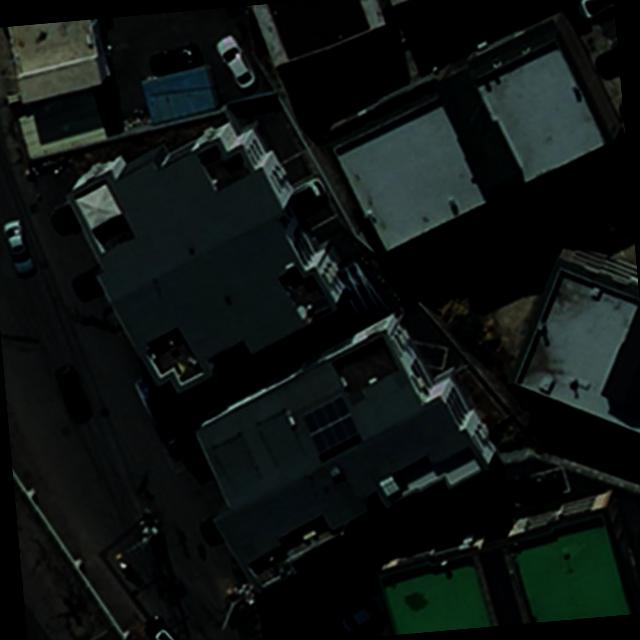solar: (297, 397, 363, 464)
